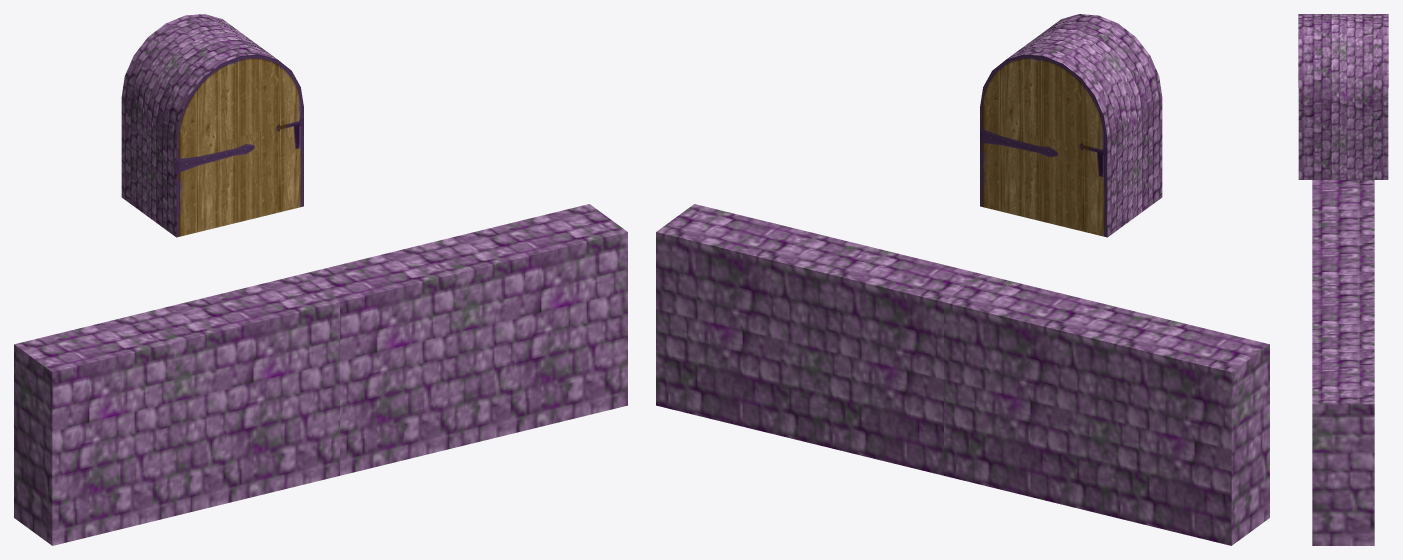
File: dungeonAssets.fbx
3 renders of one model, left to right at view 1: azimuth 30°, elevation 25°; view 2: azimuth 150°, elevation 25°; view 3: azimuth 270°, elevation 25°, orthographic. The views are drawn at different scales.
Visible parts, largest first — view 1: pCube5, pCube2; view 2: pCube5, pCube2; view 3: pCube5, pCube2.
Part boxes in pixels (x1,y1,x2,y2): pCube5: (14,204,627,545); pCube2: (121,14,303,237); pCube5: (656,204,1269,545); pCube2: (980,14,1162,237); pCube5: (1312,180,1374,545); pCube2: (1298,14,1388,179).
Bounding box in the file's own units: 0.8671 × 0.6515 × 0.1441.
